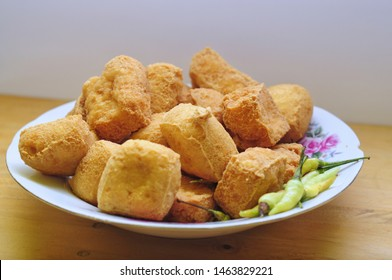Tahu: (94, 141, 183, 211), (87, 49, 147, 130), (21, 112, 99, 166), (222, 142, 289, 200), (224, 85, 283, 146), (166, 106, 225, 162)
